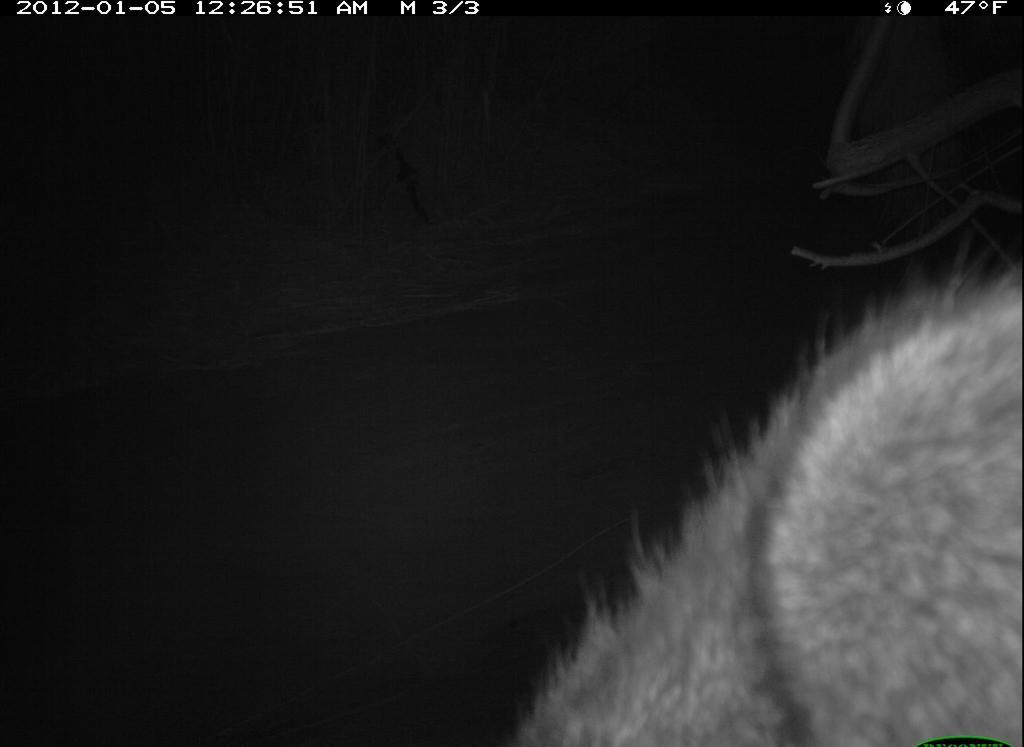raccoon: (496, 263, 1023, 747)
